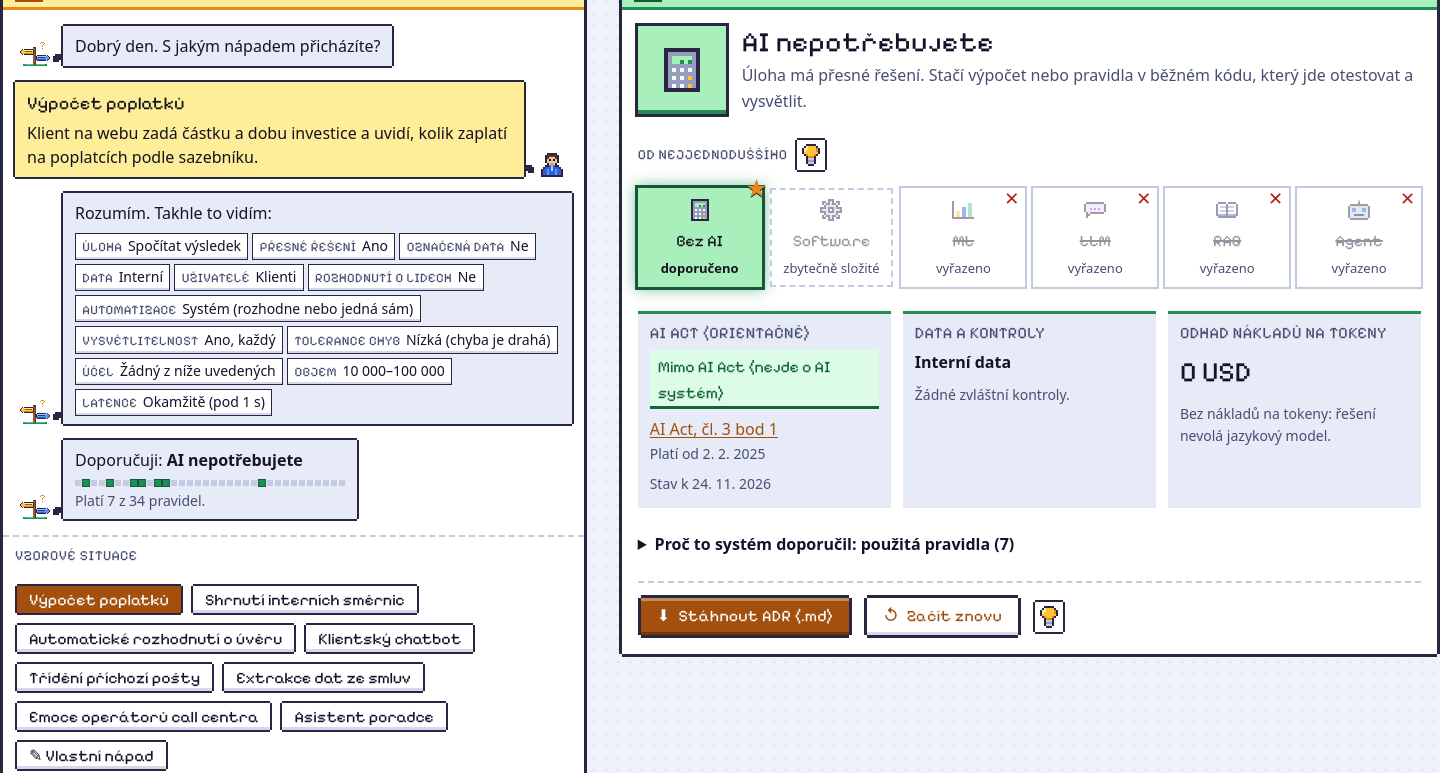
IntakePage › shows a cost range per model tier with the assumption next to it
The image size is (1440, 773).
(page scrolled)
What coordinates should you click on to do the following:
click the button "Klientský chatbot"
I would click on:
 (390, 638)
Its box is [306,625,473,652].
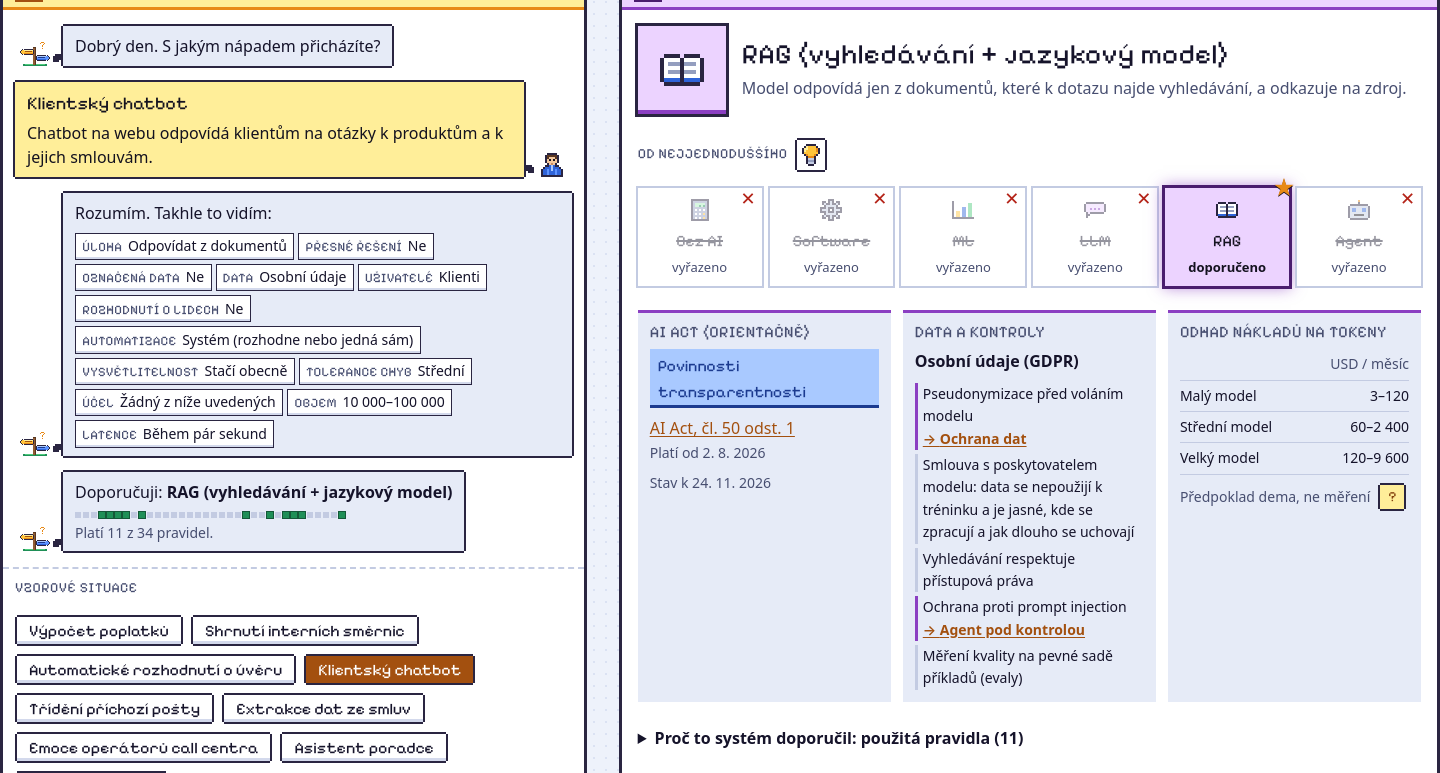
Expected: the column heading "Malý model" is shown, [1180,380,1304,412]
Expected: the text "Předpoklad dema, ne měření" is shown, [1180,486,1370,508]
